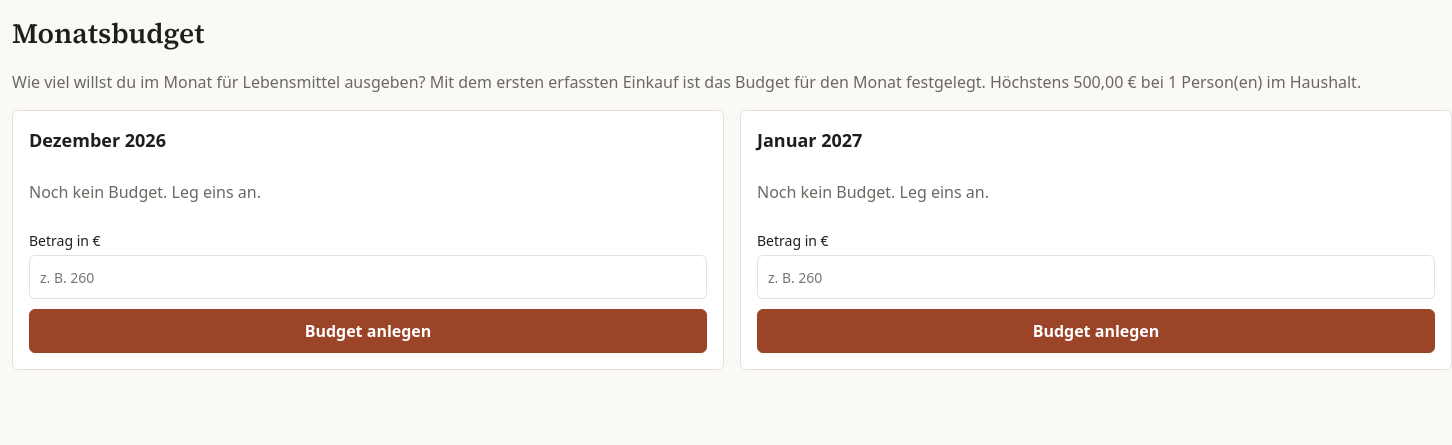
Test: BudgetView › speichert „1.000“ als 1000 € und nicht als 1 €
Type "1.000" into the field labelled "Betrag in €" below "Dezember 2026" at [368, 277], box [29,255,707,299]
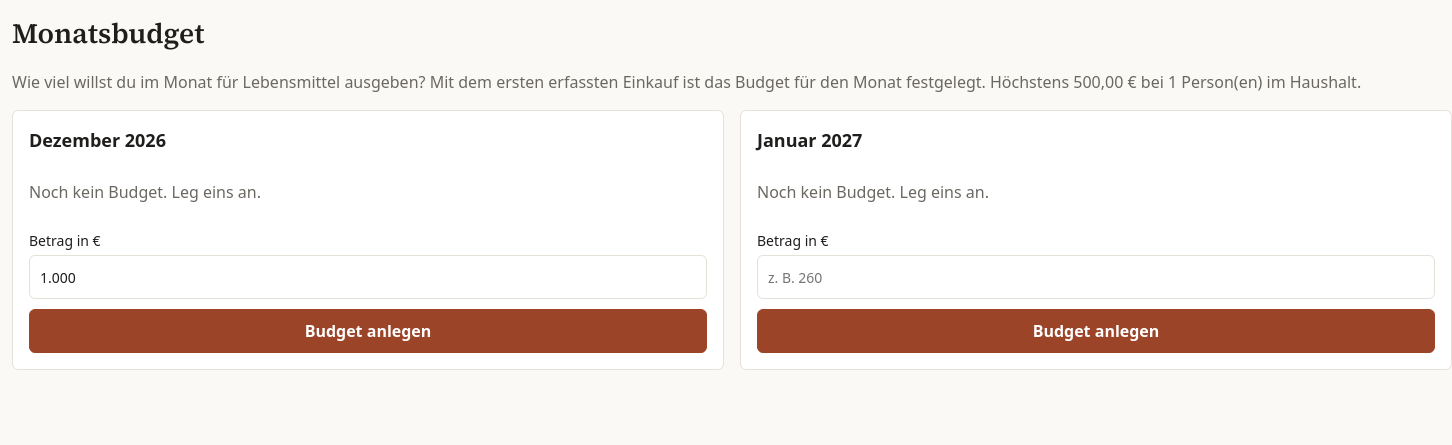
Submit the form that starts with "Dezember 2026", box [12,110,724,370]
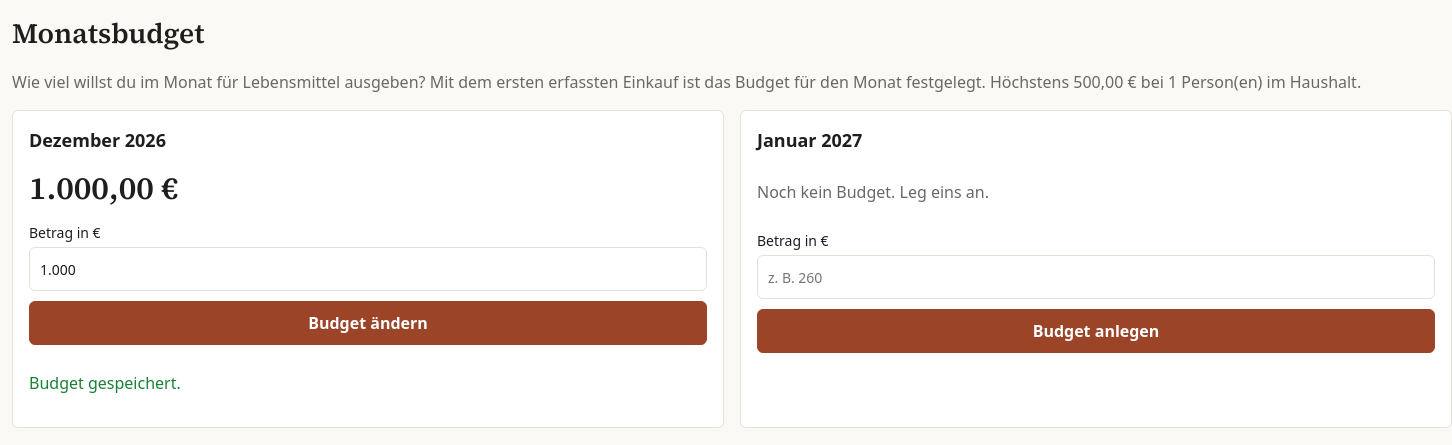
Check: the text "Dezember 2026" is shown, box [29,128,166,152]
Check: the text "Budget gespeichert." is shown, box [29,372,181,394]
